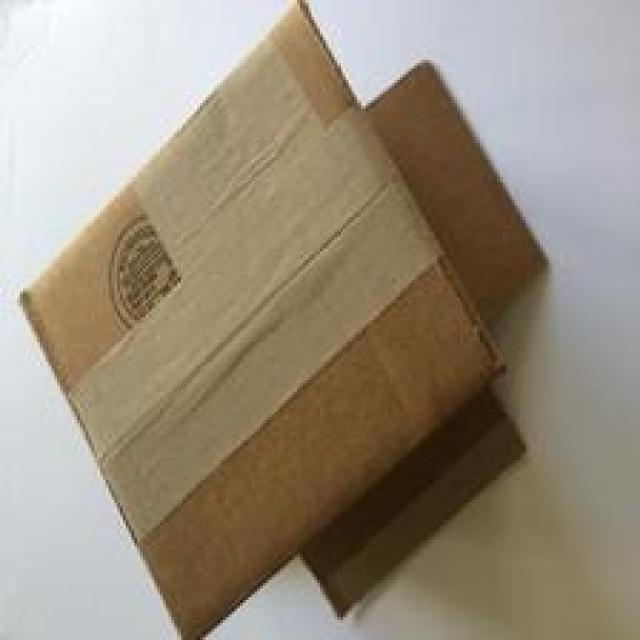Cardboard: (17, 0, 556, 638)
